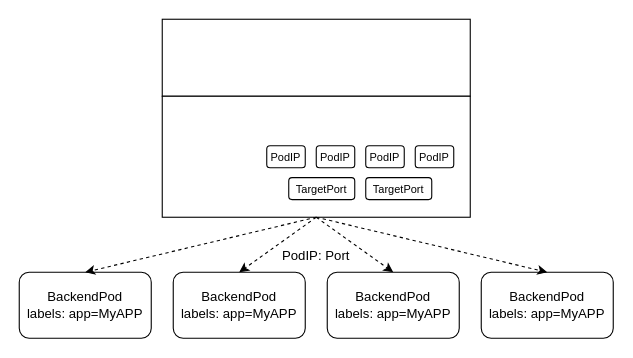
This 633x358 diagram has some shape labels left out. Each missing label, with the box of its shape:
Endpoints (MyService) addresses: ports:: (161, 95, 470, 217)
Service (MyService) spec.selector: app=MyAPP: (161, 18, 470, 96)
